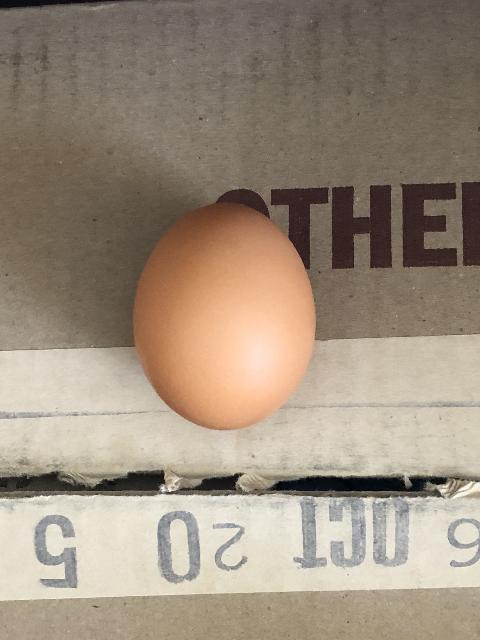Sano: (131, 200, 317, 431)
